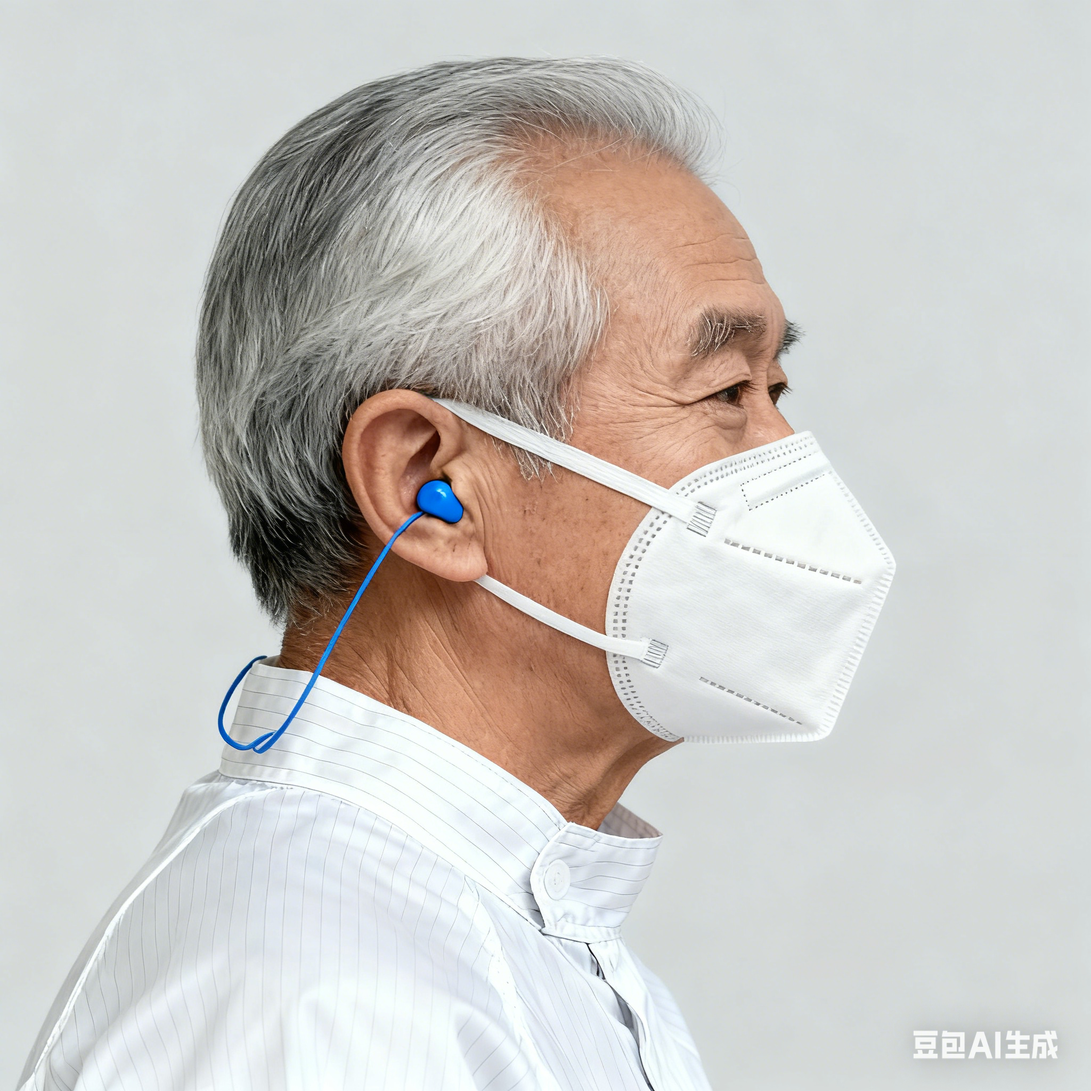MASK: (604, 429, 891, 748)
